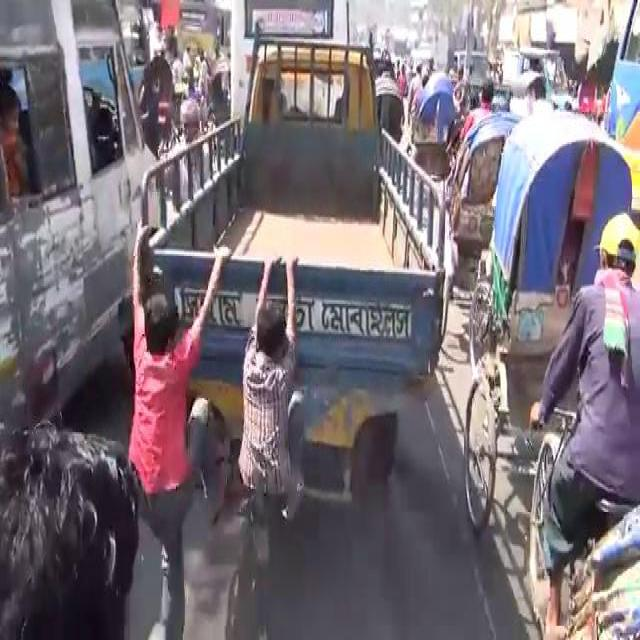11: (133, 18, 450, 522), (452, 47, 492, 92)
13: (459, 104, 633, 536), (440, 114, 526, 370), (408, 66, 454, 178), (375, 67, 403, 143)
Truck: (0, 0, 159, 436), (228, 0, 358, 121), (172, 0, 228, 59)
